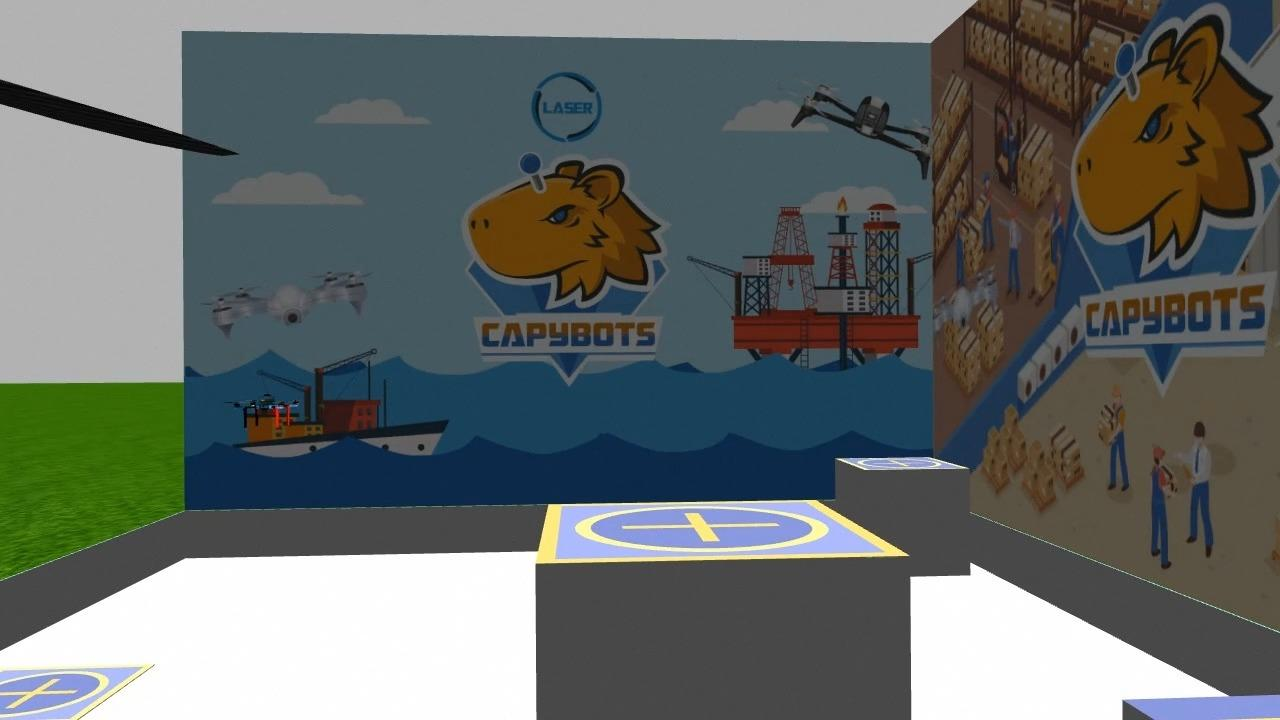UAV: (224, 386, 304, 436)
